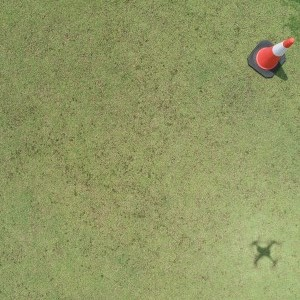traffic cone: (247, 37, 295, 78)
